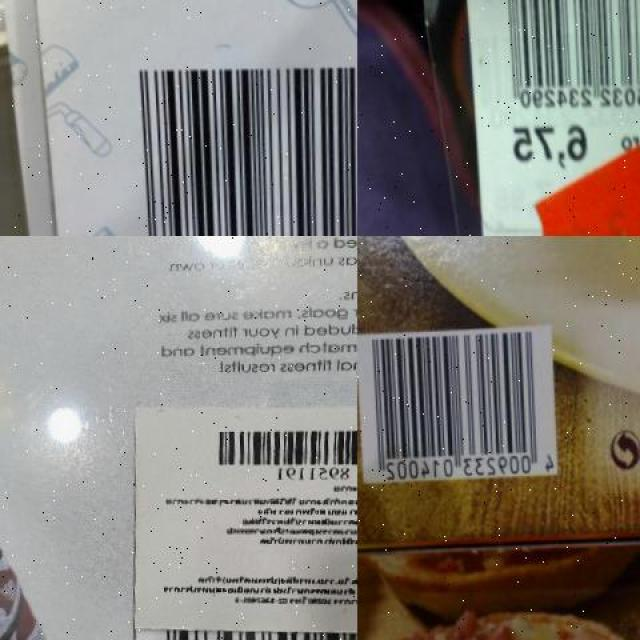Barcode: (114, 40, 358, 236), (358, 327, 554, 482), (470, 0, 640, 124), (190, 419, 358, 484)
